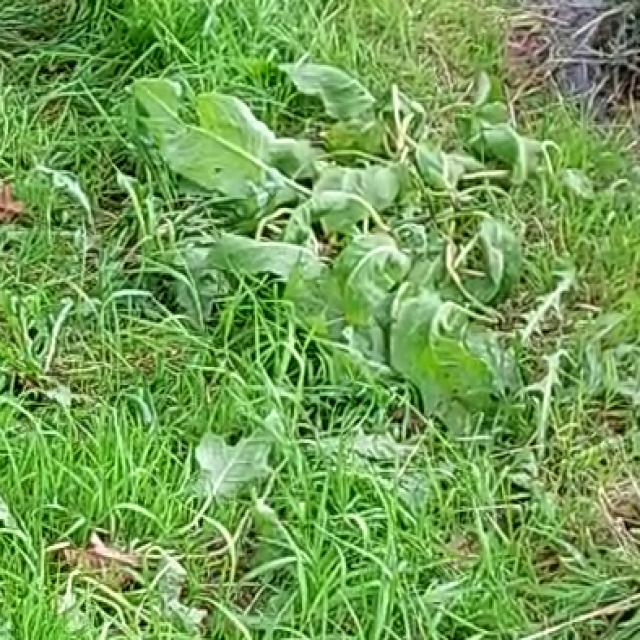organic waste: (143, 74, 588, 423)
